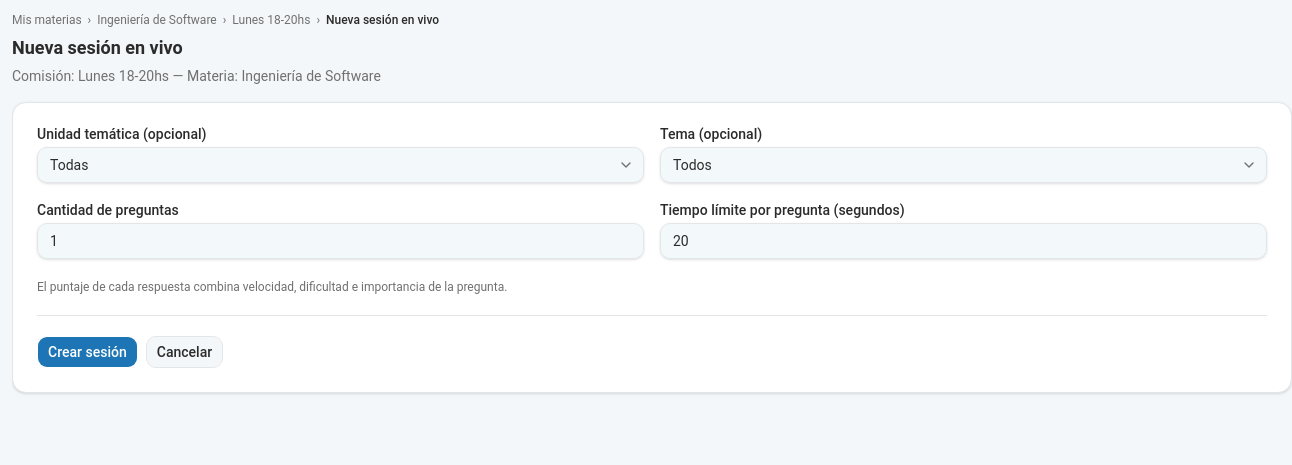
NuevaSesionEnVivo › muestra el error del servidor (preguntas insuficientes) y permanece en el formulario
This screenshot has width=1292, height=465.
Expected: the heading "Nueva sesión en vivo" is shown, [12,37,183,58]
Click the button "Crear sesión": click(87, 352) [37,336,138,368]
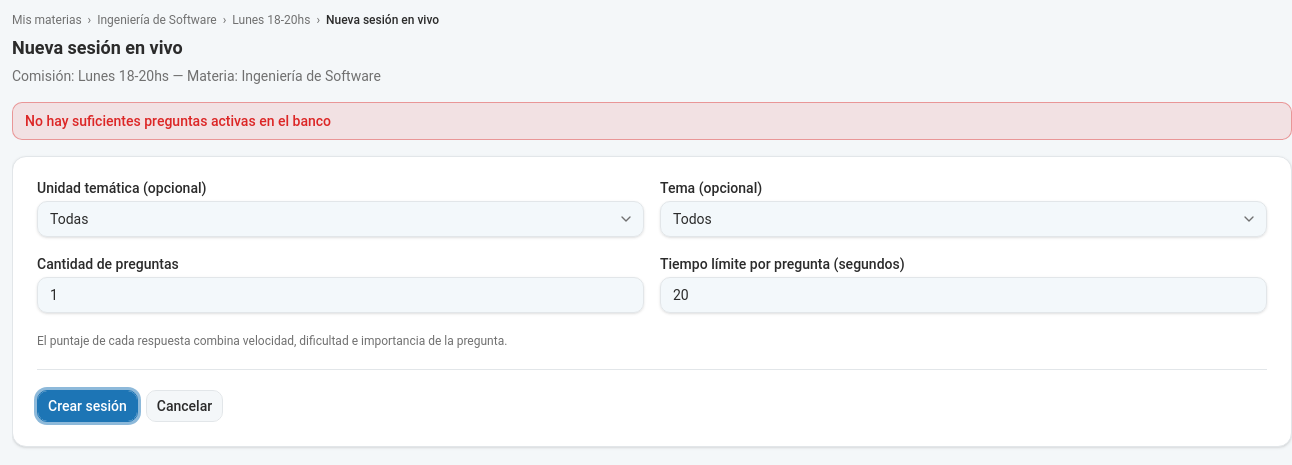
Expected: the heading "Nueva sesión en vivo" is shown, [12,37,183,58]
Now the text "No hay suficientes preguntas activas en el banco" is shown, box [25,113,331,129]
